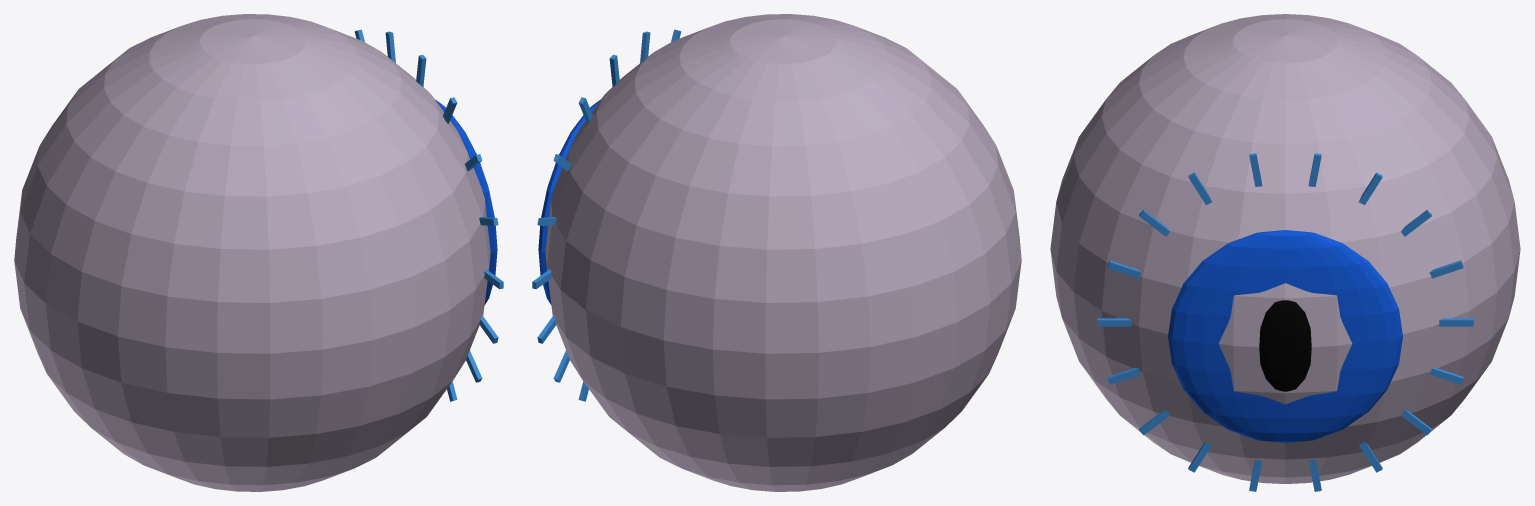
File: void_eye.glb
3 views of the same model, side by side, from view 1: azimuth 30°, elevation 25°; view 2: azimuth 150°, elevation 25°; view 3: azimuth 270°, elevation 25° (orthographic).
Parts seen in each view (by area): view 1: void_eye; view 2: void_eye; view 3: void_eye.
Boxes of the visible parts, x1,y1,x2,y2 form: void_eye: (14,14,503,491); void_eye: (532,14,1021,491); void_eye: (1050,14,1520,491).
Bounding box in the file's own units: 1.33 × 1.32 × 1.32.
